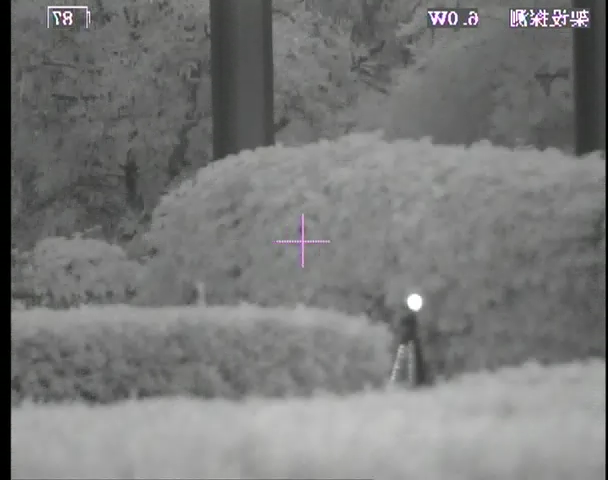my: (405, 293, 423, 311)
